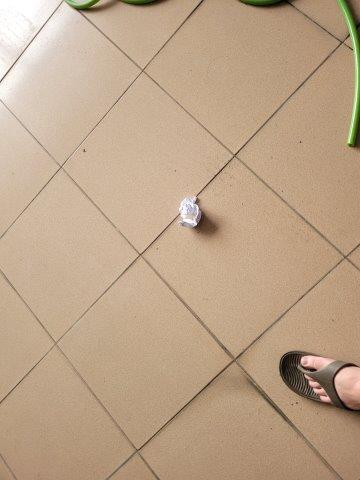kertas: (177, 197, 202, 228)
